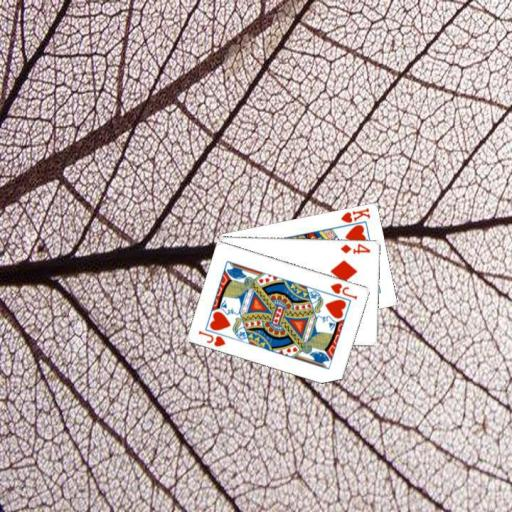4D: (338, 241, 372, 256)
JH: (327, 279, 359, 301), (195, 327, 227, 348)
KH: (338, 204, 372, 224)
